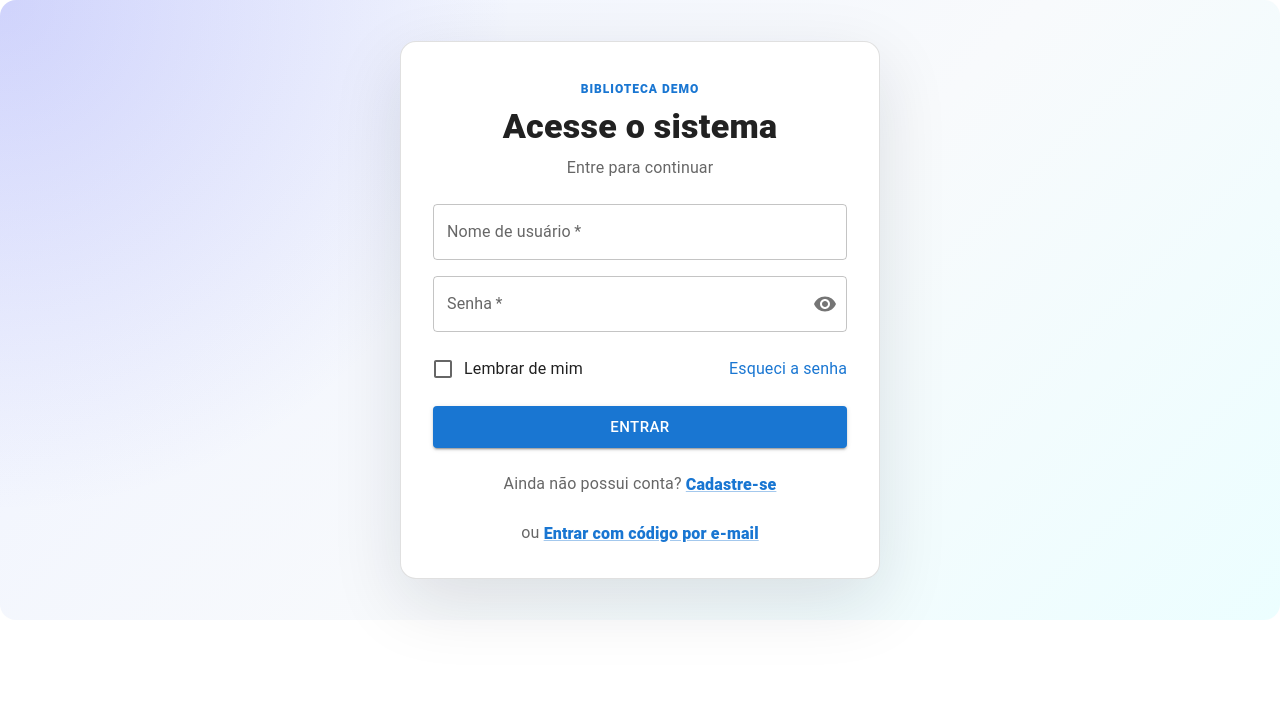
AuthPanel › navega para o modo de cadastro quando habilitado
Click the button "Cadastre-se". click: (731, 485)
box: left=686, top=473, right=776, bottom=497
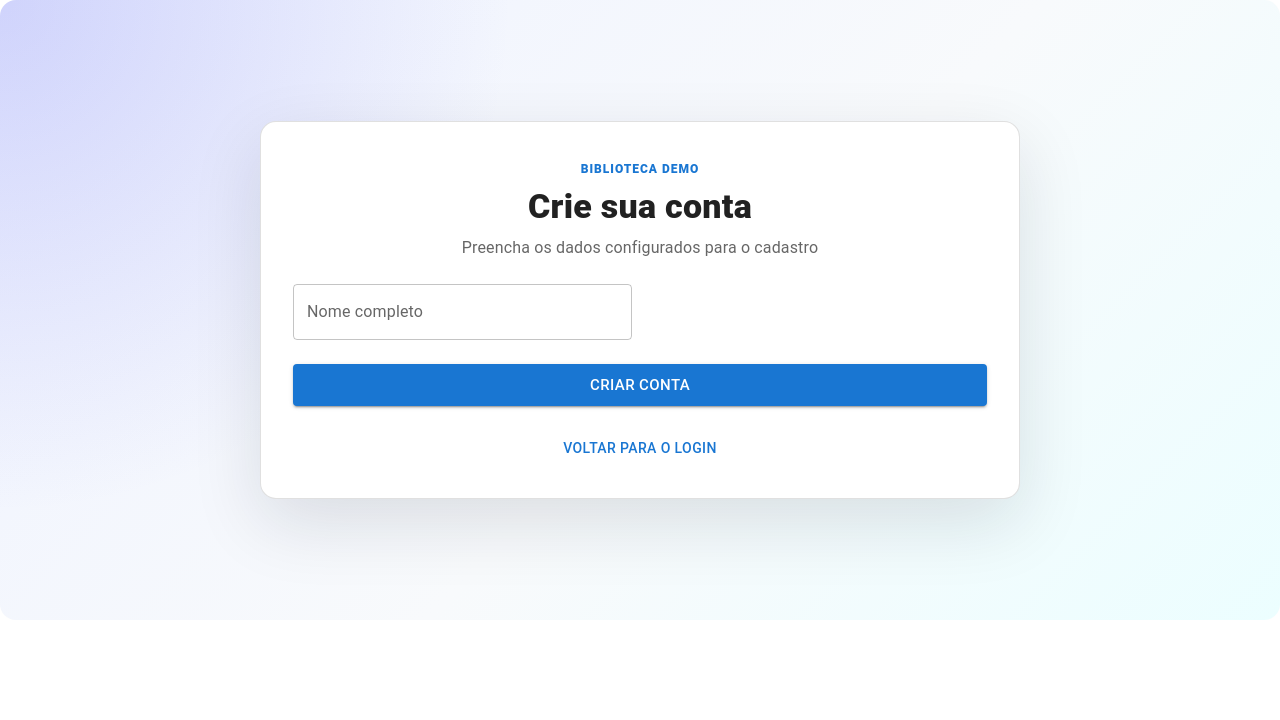
Result: the heading "Crie sua conta" is shown at left=528, top=186, right=752, bottom=226
Result: the field labelled "Nome completo" is shown at left=293, top=284, right=632, bottom=340
